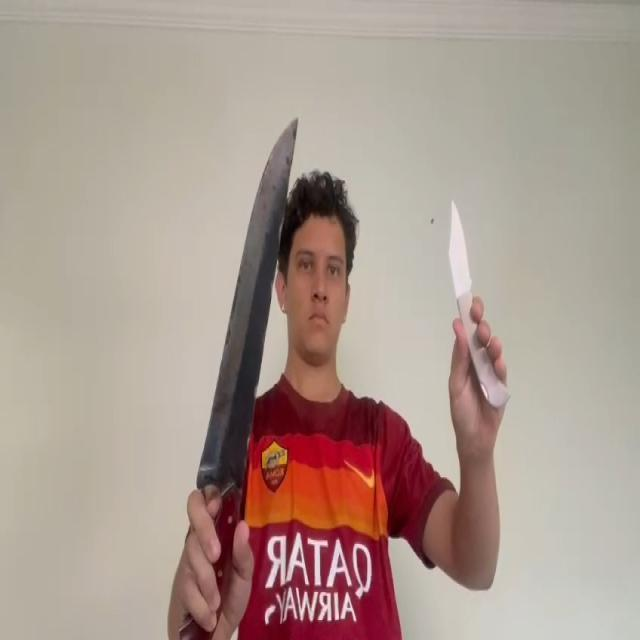knife: (197, 116, 299, 491), (446, 200, 472, 290)
